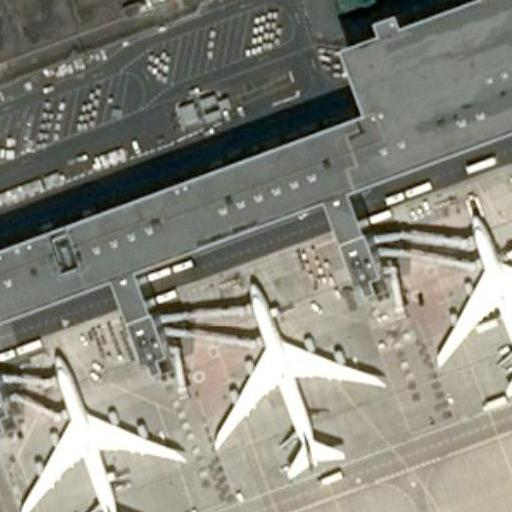Aircraft: (208, 281, 391, 485), (205, 276, 385, 481), (10, 344, 190, 512), (11, 347, 184, 512), (427, 208, 512, 402), (429, 205, 512, 400)
